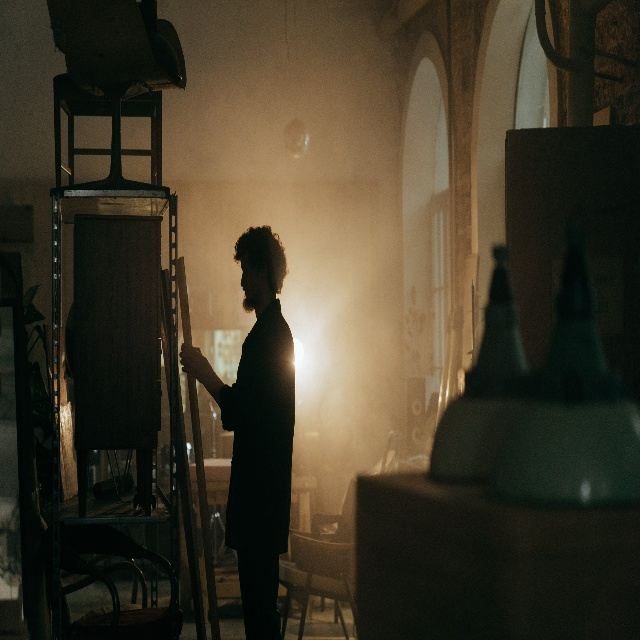Sin_guantes: (179, 341, 202, 376)
